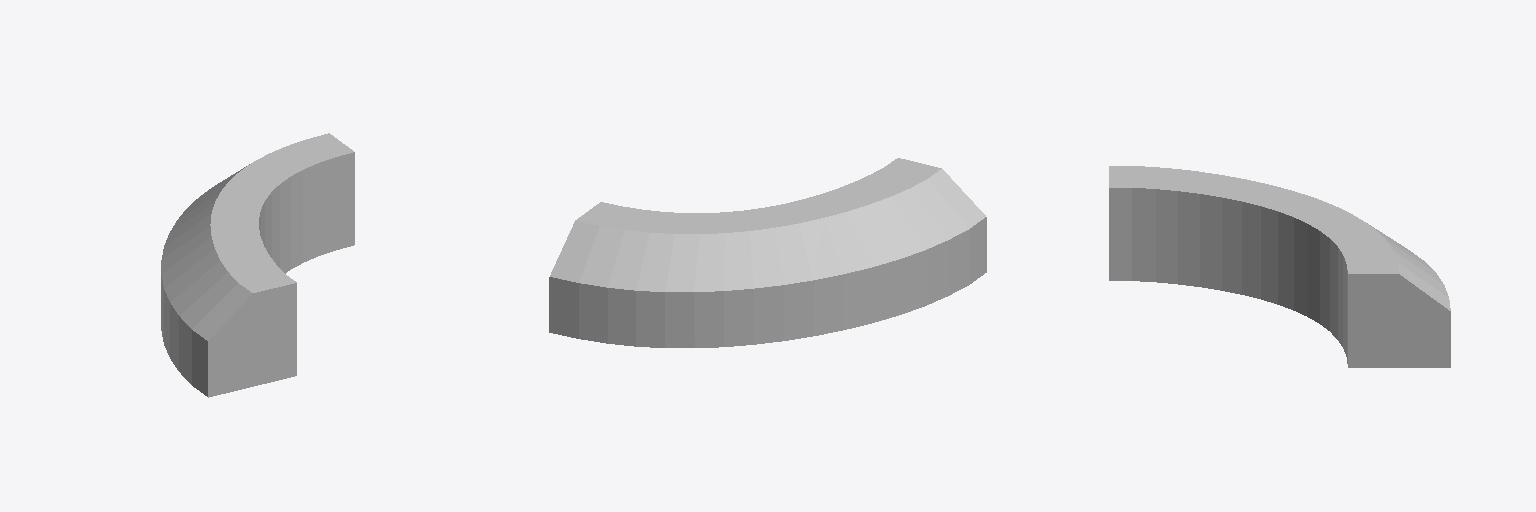
Rendered from Outside_Bend_LP.obj.
3 views of the same model, side by side, from view 1: azimuth 30°, elevation 25°; view 2: azimuth 150°, elevation 25°; view 3: azimuth 270°, elevation 25° (orthographic).
Visible parts, largest first — view 1: Wall_LP10; view 2: Wall_LP10; view 3: Wall_LP10.
Boxes of the visible parts, x1=… form: Wall_LP10: x1=161, y1=133, x2=354, y2=397; Wall_LP10: x1=549, y1=158, x2=986, y2=347; Wall_LP10: x1=1109, y1=166, x2=1450, y2=367.
Bounding box in the file's own units: 2.98 × 1 × 3.32.